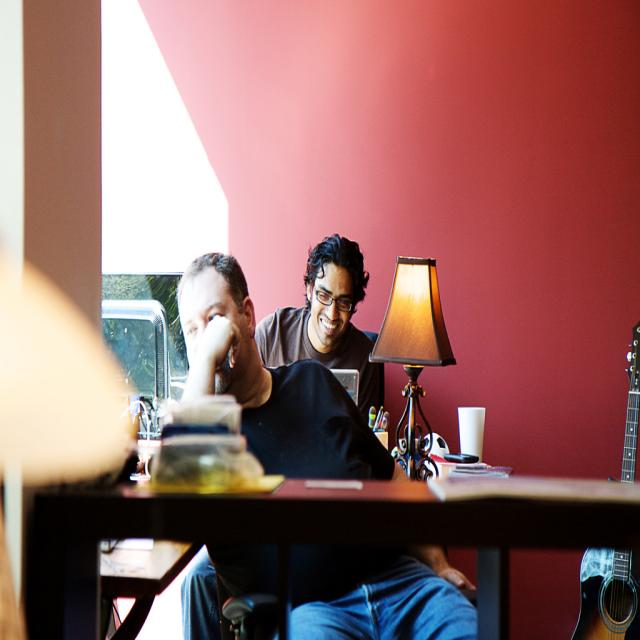desk: (59, 422, 613, 614)
person: (253, 233, 386, 447)
